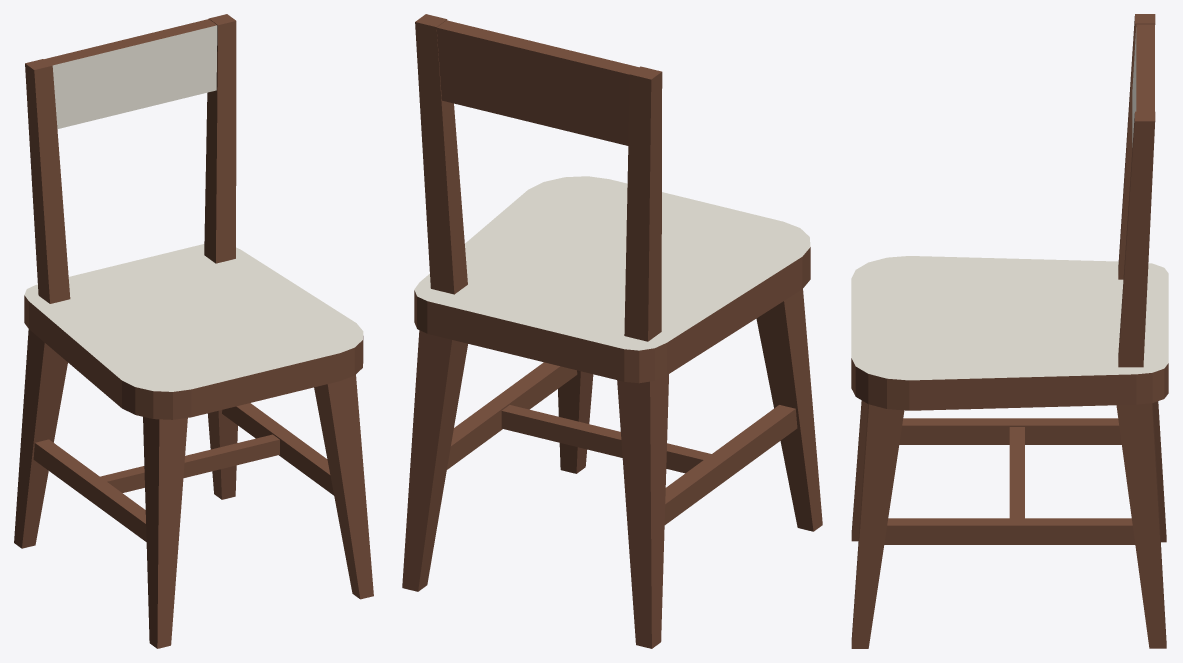
File: Chair.fbx
3 views of the same model, side by side, from view 1: azimuth 30°, elevation 25°; view 2: azimuth 150°, elevation 25°; view 3: azimuth 270°, elevation 25° (orthographic). The views are drawn at different scales.
Parts seen in each view (by area): view 1: Chair; view 2: Chair; view 3: Chair.
Part boxes in pixels (<box>): Chair: <box>14,14,373,648</box>; Chair: <box>402,14,822,648</box>; Chair: <box>851,14,1168,648</box>.
Size of the model in its own units: 0.5806 by 1.14 by 0.6252.
